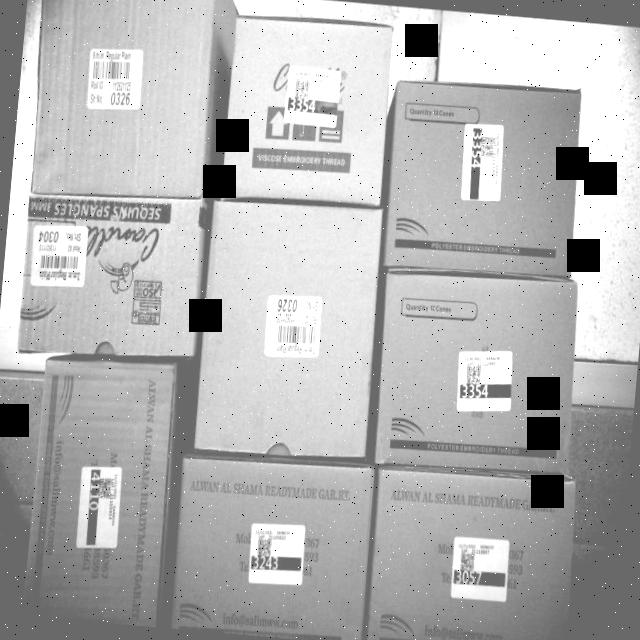box: (194, 202, 384, 458), (21, 349, 180, 626), (369, 274, 582, 474), (388, 74, 584, 282), (28, 0, 221, 201), (367, 460, 578, 640), (172, 455, 374, 640), (15, 180, 206, 358), (224, 13, 395, 205)
